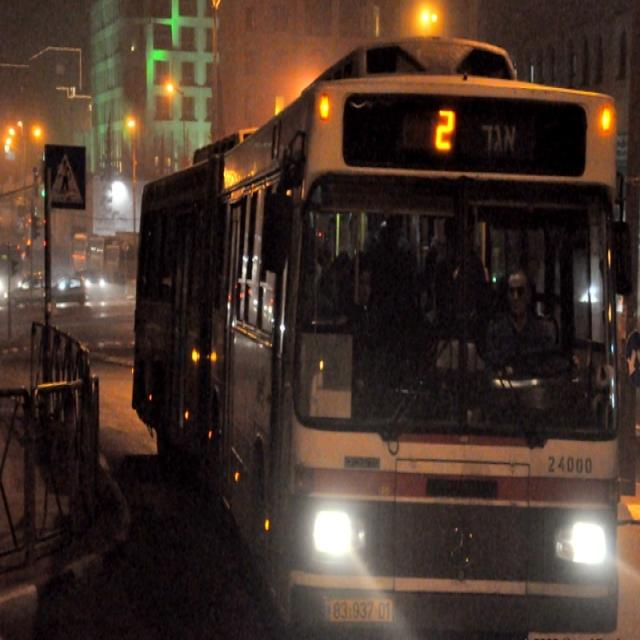Bus: (107, 24, 630, 640)
People: (495, 263, 560, 377)
car: (44, 252, 93, 317)
